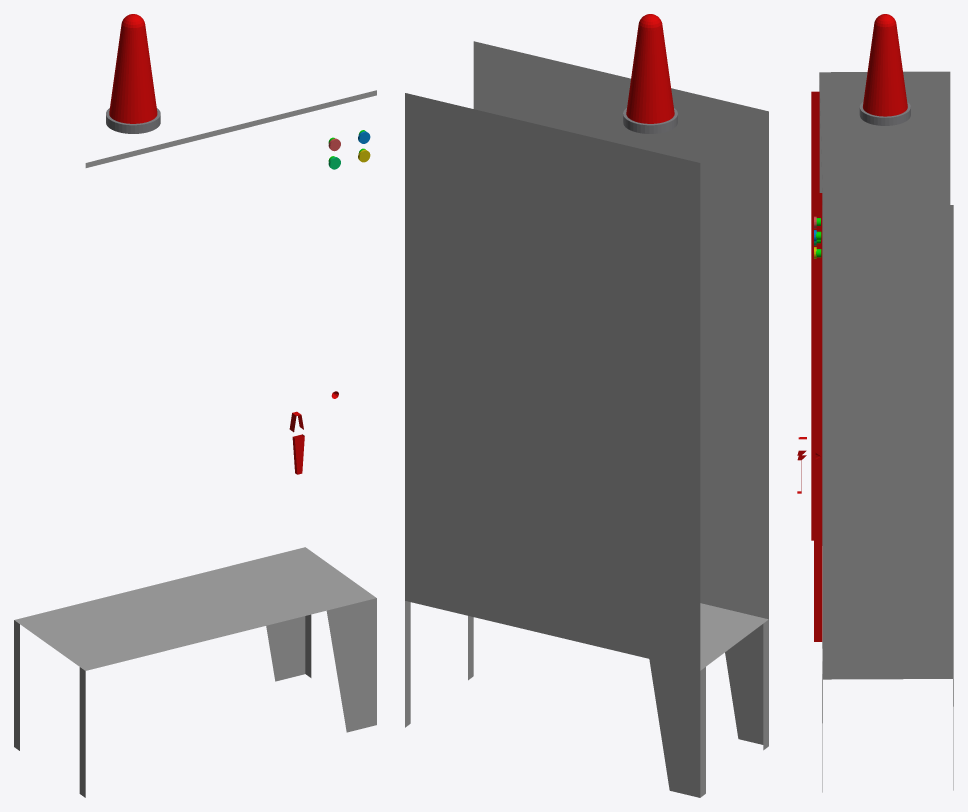
Rendered from tablero_piso.glb.
3 views of the same model, side by side, from view 1: azimuth 30°, elevation 25°; view 2: azimuth 150°, elevation 25°; view 3: azimuth 270°, elevation 25° (orthographic). The views are drawn at different scales.
Visible parts, largest first — view 1: n4_p0_132_132_132, n17_p0_255_0_0, n16_p0_80_80_85, n6_p0_255_0_0; view 2: n4_p0_132_132_132, n5_p0_199_200_202, n17_p0_255_0_0, n16_p0_80_80_85; view 3: n4_p0_132_132_132, n6_p0_255_0_0, n17_p0_255_0_0, n16_p0_80_80_85.
Part boxes in pixels (x1,y1,x2,y2): n4_p0_132_132_132: (14, 90, 376, 797); n17_p0_255_0_0: (109, 14, 157, 123); n16_p0_80_80_85: (106, 108, 160, 133); n6_p0_255_0_0: (289, 391, 338, 474); n4_p0_132_132_132: (405, 93, 768, 797); n5_p0_199_200_202: (473, 41, 768, 619); n17_p0_255_0_0: (626, 14, 674, 123); n16_p0_80_80_85: (623, 108, 677, 133); n4_p0_132_132_132: (819, 71, 953, 792); n6_p0_255_0_0: (797, 91, 822, 641); n17_p0_255_0_0: (863, 14, 907, 116); n16_p0_80_80_85: (859, 101, 910, 125).
Bounding box in the file's own units: 0.7032 × 1.68 × 0.3465.
